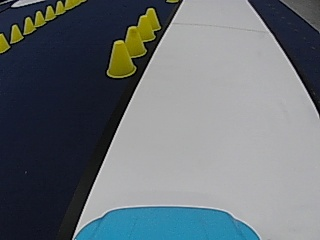cone: (105, 39, 136, 77), (122, 25, 146, 57), (133, 14, 154, 41), (143, 7, 161, 30), (9, 23, 23, 42), (23, 16, 35, 33), (0, 32, 10, 52), (33, 10, 45, 26), (44, 4, 55, 20), (54, 0, 64, 14)
